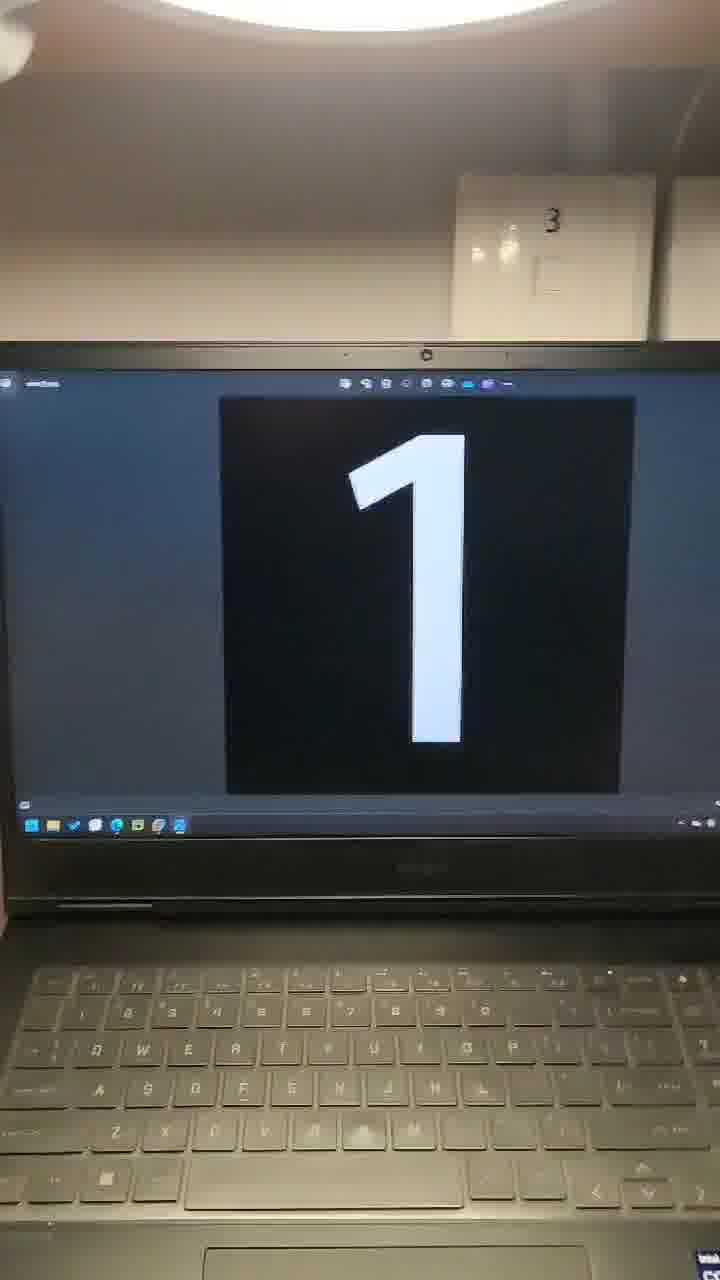one: (325, 404, 636, 807)
